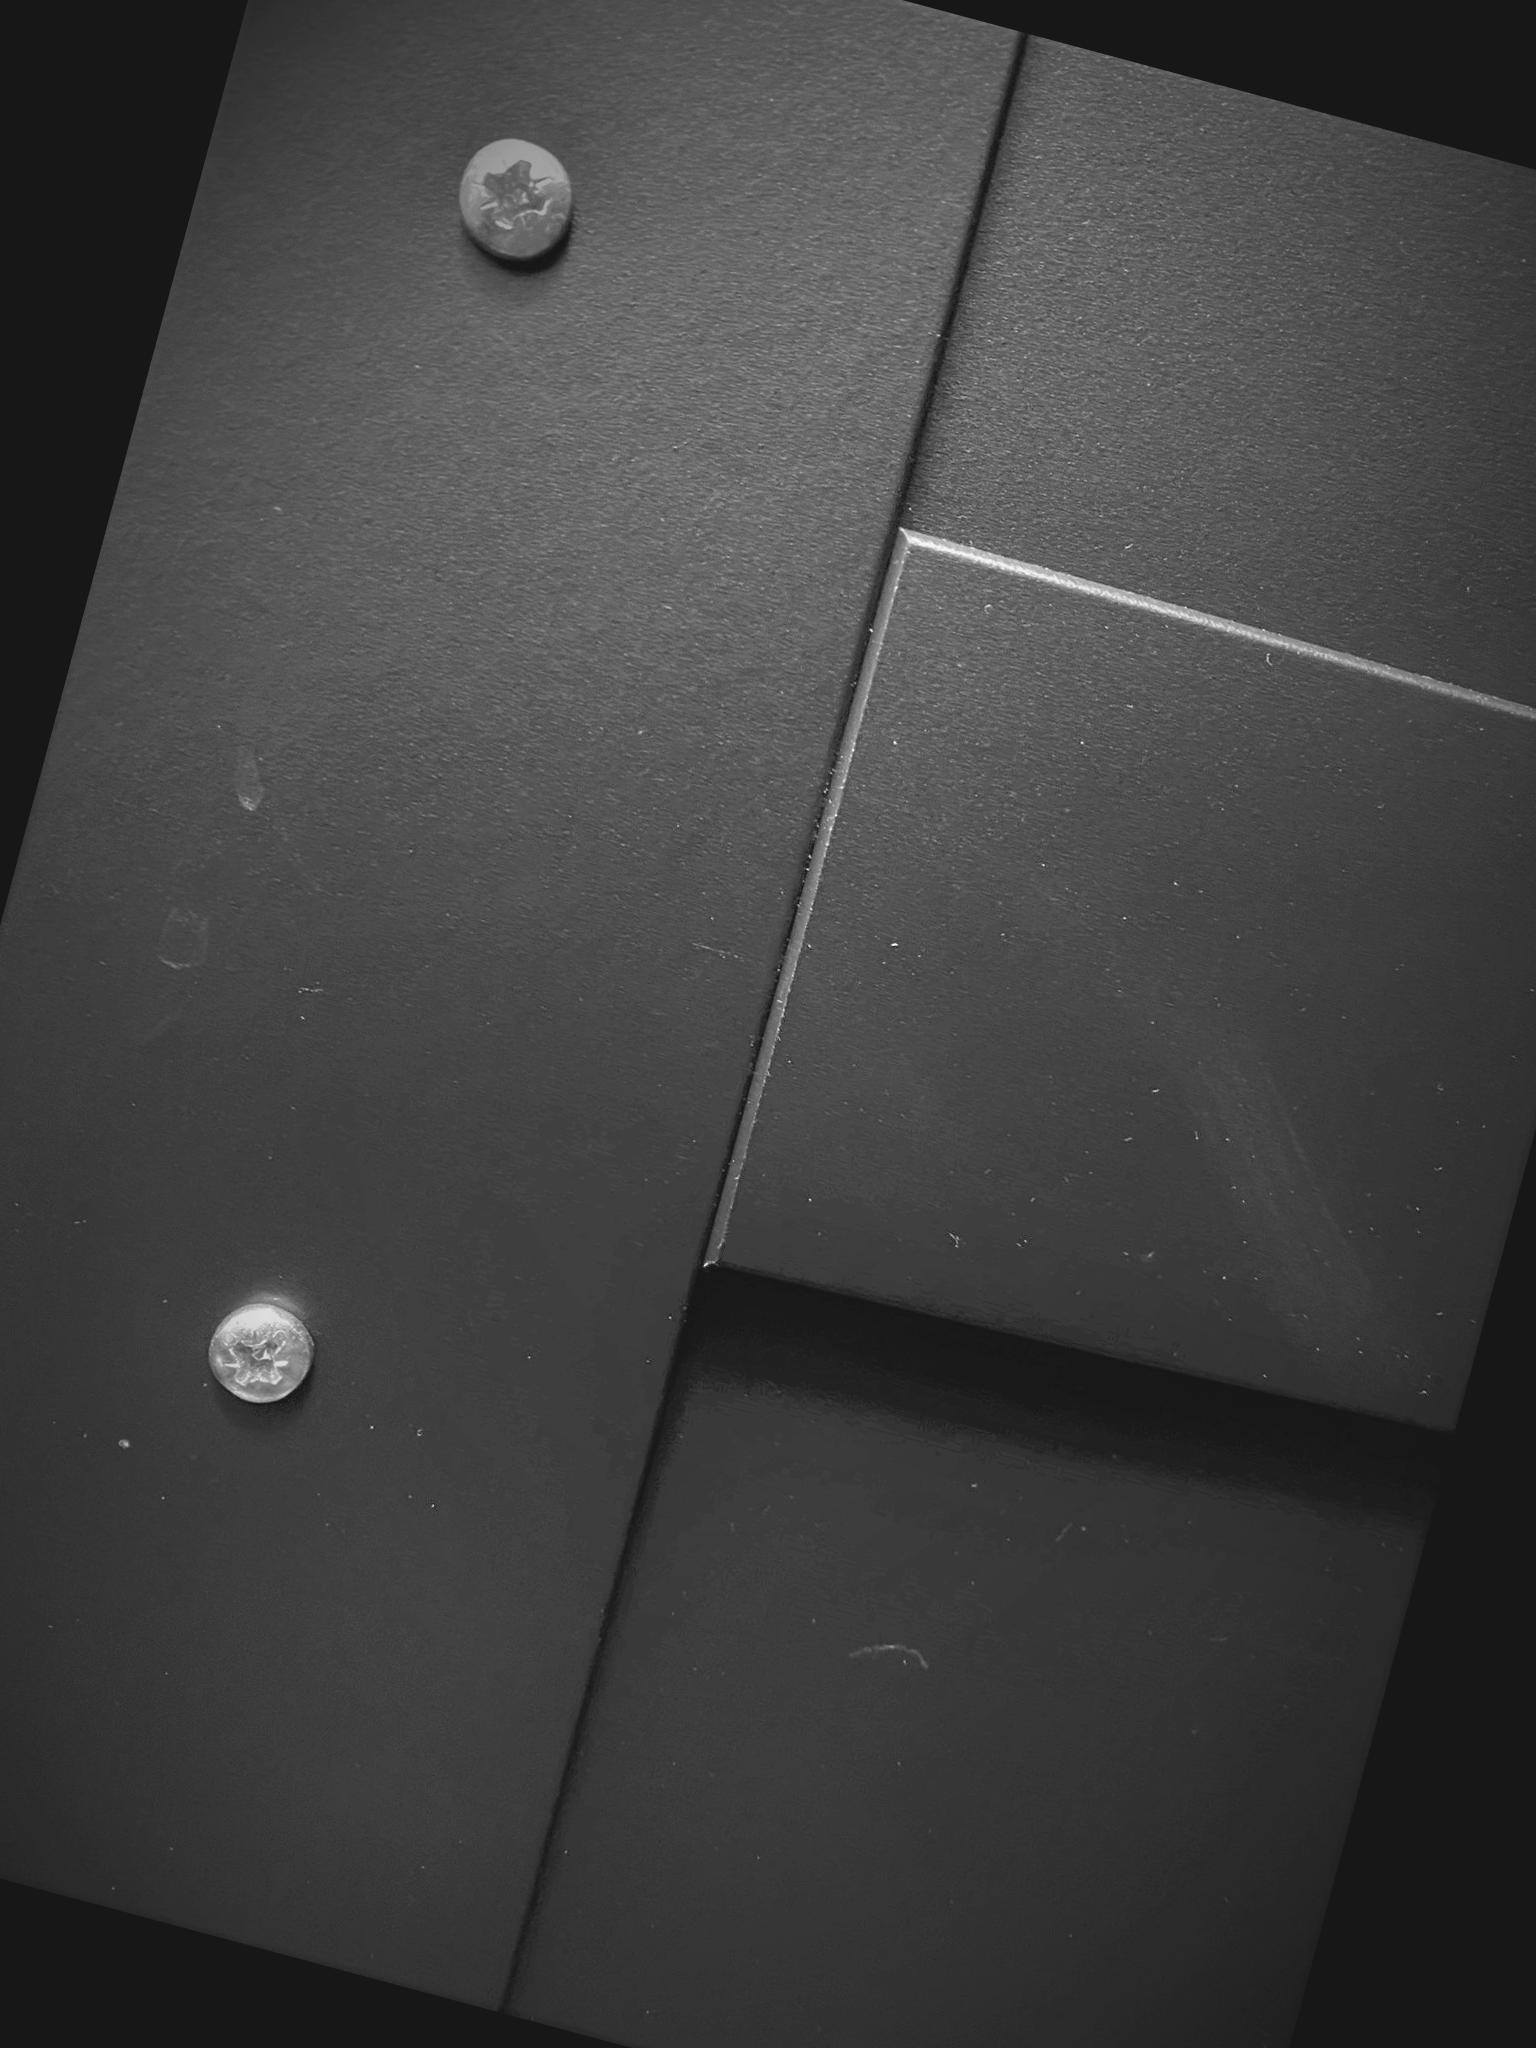philips-PZ: (439, 124, 582, 271), (194, 1292, 324, 1417)
